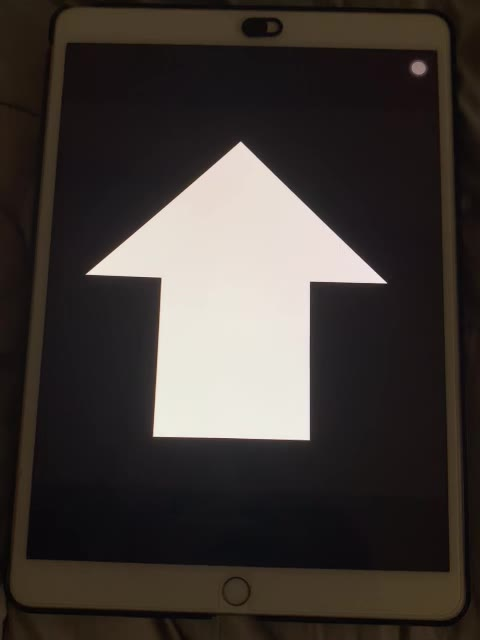up: (84, 141, 392, 446)
